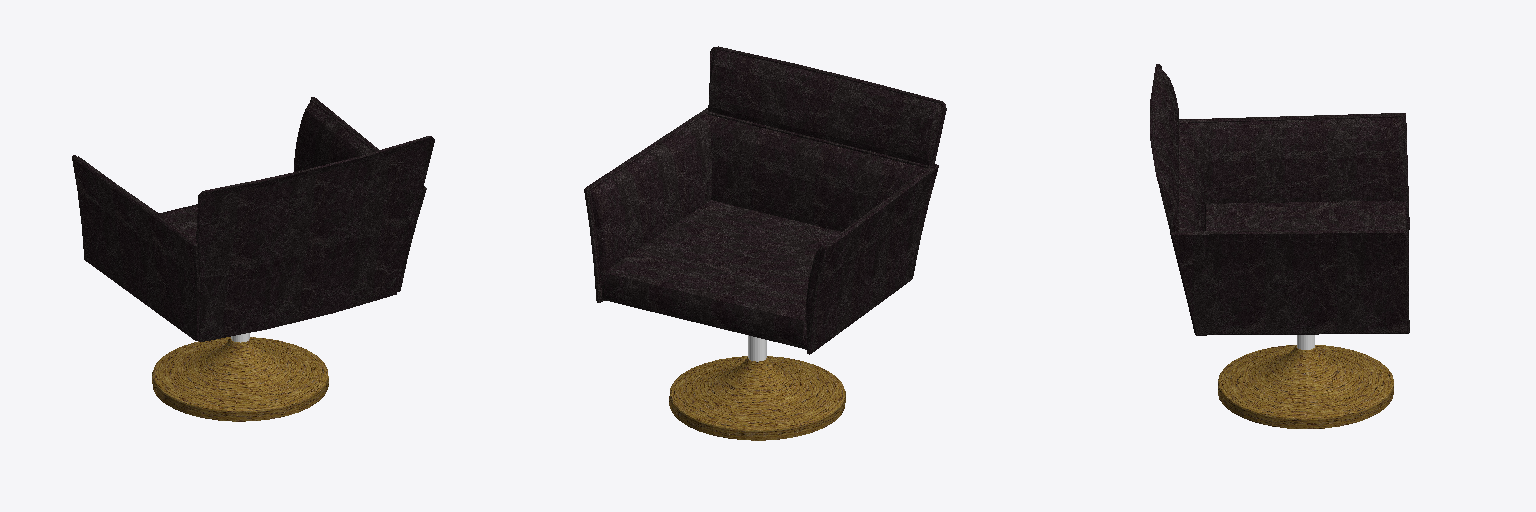
3 renders of one model, left to right at view 1: azimuth 30°, elevation 25°; view 2: azimuth 150°, elevation 25°; view 3: azimuth 270°, elevation 25°, orthographic.
Visible parts, largest first — view 1: mesh4_mesh4-geometry, mesh5_mesh5-geometry, mesh1_mesh1-geometry, mesh8_mesh8-geometry, mesh7_mesh7-geometry, mesh9_mesh9-geometry, mesh6_mesh6-geometry; view 2: mesh8_mesh8-geometry, mesh9_mesh9-geometry, mesh1_mesh1-geometry, mesh5_mesh5-geometry, mesh6_mesh6-geometry, mesh16_mesh16-geometry, mesh14_mesh14-geometry, mesh12_mesh12-geometry; view 3: mesh6_mesh6-geometry, mesh8_mesh8-geometry, mesh1_mesh1-geometry, mesh9_mesh9-geometry, mesh15_mesh15-geometry, mesh5_mesh5-geometry, mesh7_mesh7-geometry.
Boxes of the visible parts, x1=… form: mesh4_mesh4-geometry: x1=199, y1=137, x2=434, y2=341; mesh5_mesh5-geometry: x1=72, y1=155, x2=199, y2=340; mesh1_mesh1-geometry: x1=152, y1=337, x2=328, y2=421; mesh8_mesh8-geometry: x1=84, y1=102, x2=372, y2=242; mesh7_mesh7-geometry: x1=197, y1=136, x2=433, y2=341; mesh9_mesh9-geometry: x1=159, y1=204, x2=197, y2=238; mesh6_mesh6-geometry: x1=311, y1=97, x2=426, y2=291; mesh8_mesh8-geometry: x1=591, y1=49, x2=942, y2=335; mesh9_mesh9-geometry: x1=604, y1=200, x2=840, y2=348; mesh1_mesh1-geometry: x1=669, y1=356, x2=845, y2=440; mesh5_mesh5-geometry: x1=807, y1=164, x2=938, y2=354; mesh6_mesh6-geometry: x1=584, y1=108, x2=707, y2=302; mesh16_mesh16-geometry: x1=704, y1=111, x2=931, y2=167; mesh14_mesh14-geometry: x1=589, y1=110, x2=708, y2=300; mesh12_mesh12-geometry: x1=717, y1=47, x2=939, y2=103; mesh6_mesh6-geometry: x1=1170, y1=229, x2=1409, y2=335; mesh8_mesh8-geometry: x1=1154, y1=67, x2=1406, y2=231; mesh1_mesh1-geometry: x1=1218, y1=345, x2=1393, y2=428; mesh9_mesh9-geometry: x1=1205, y1=201, x2=1408, y2=291; mesh15_mesh15-geometry: x1=1180, y1=115, x2=1407, y2=207; mesh5_mesh5-geometry: x1=1179, y1=113, x2=1409, y2=229; mesh7_mesh7-geometry: x1=1150, y1=64, x2=1173, y2=231.
Bounding box in the file's own units: 0.5762 × 0.6205 × 0.532.
Materials: 3 (2 with a texture image).